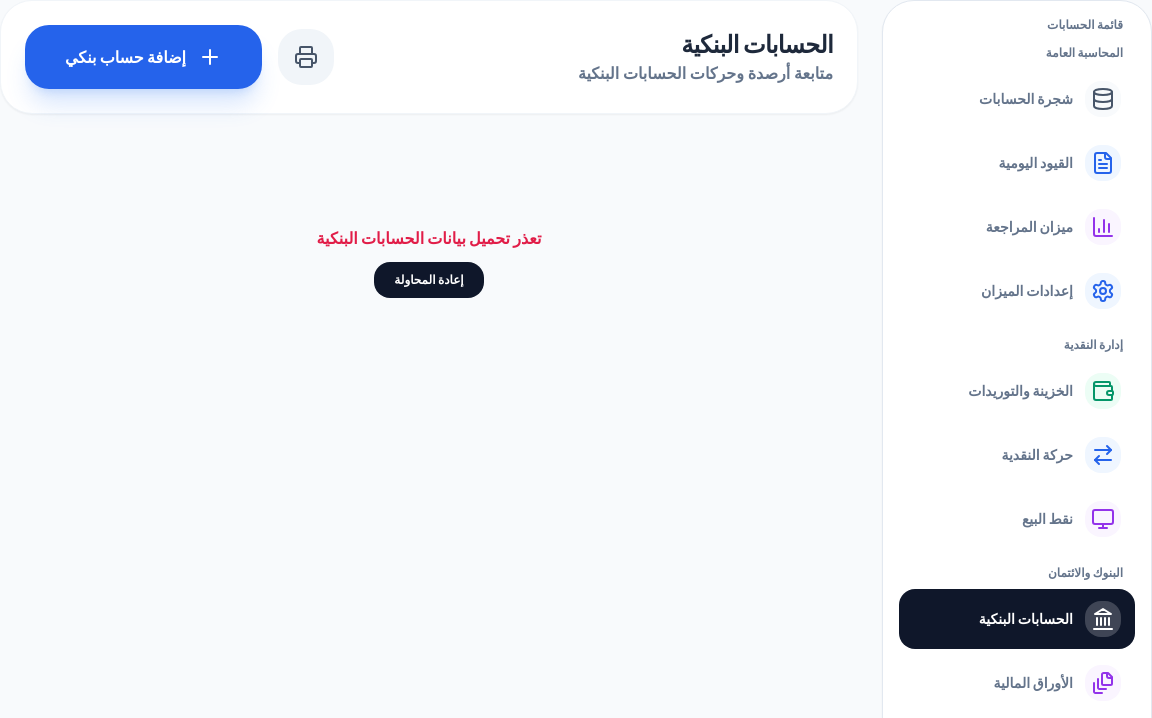
Scenario: coverage gap: finance master-data controls › shows a retryable bank-load error instead of a successful empty state
Expected: the text "تعذر تحميل بيانات الحسابات البنكية" is shown, [316,228,542,248]
Click the button "إعادة المحاولة" at (429, 280), box [374,262,484,298]
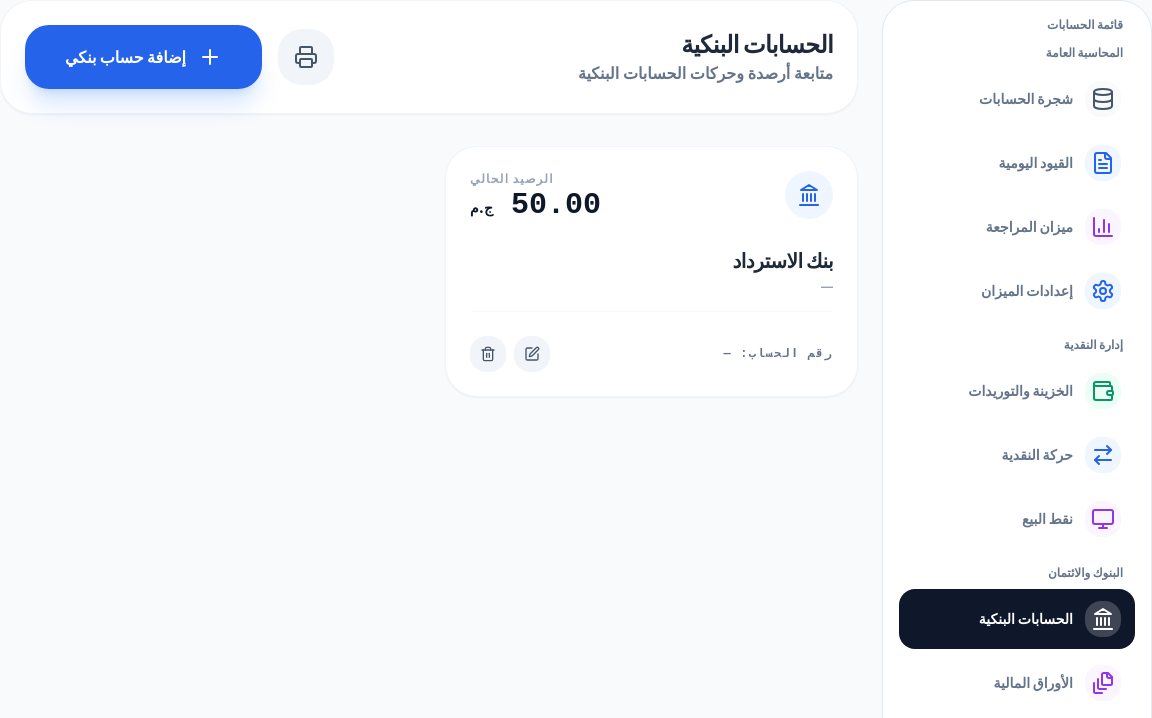
Expected: the heading "بنك الاسترداد" is shown, [732,249,833,273]
